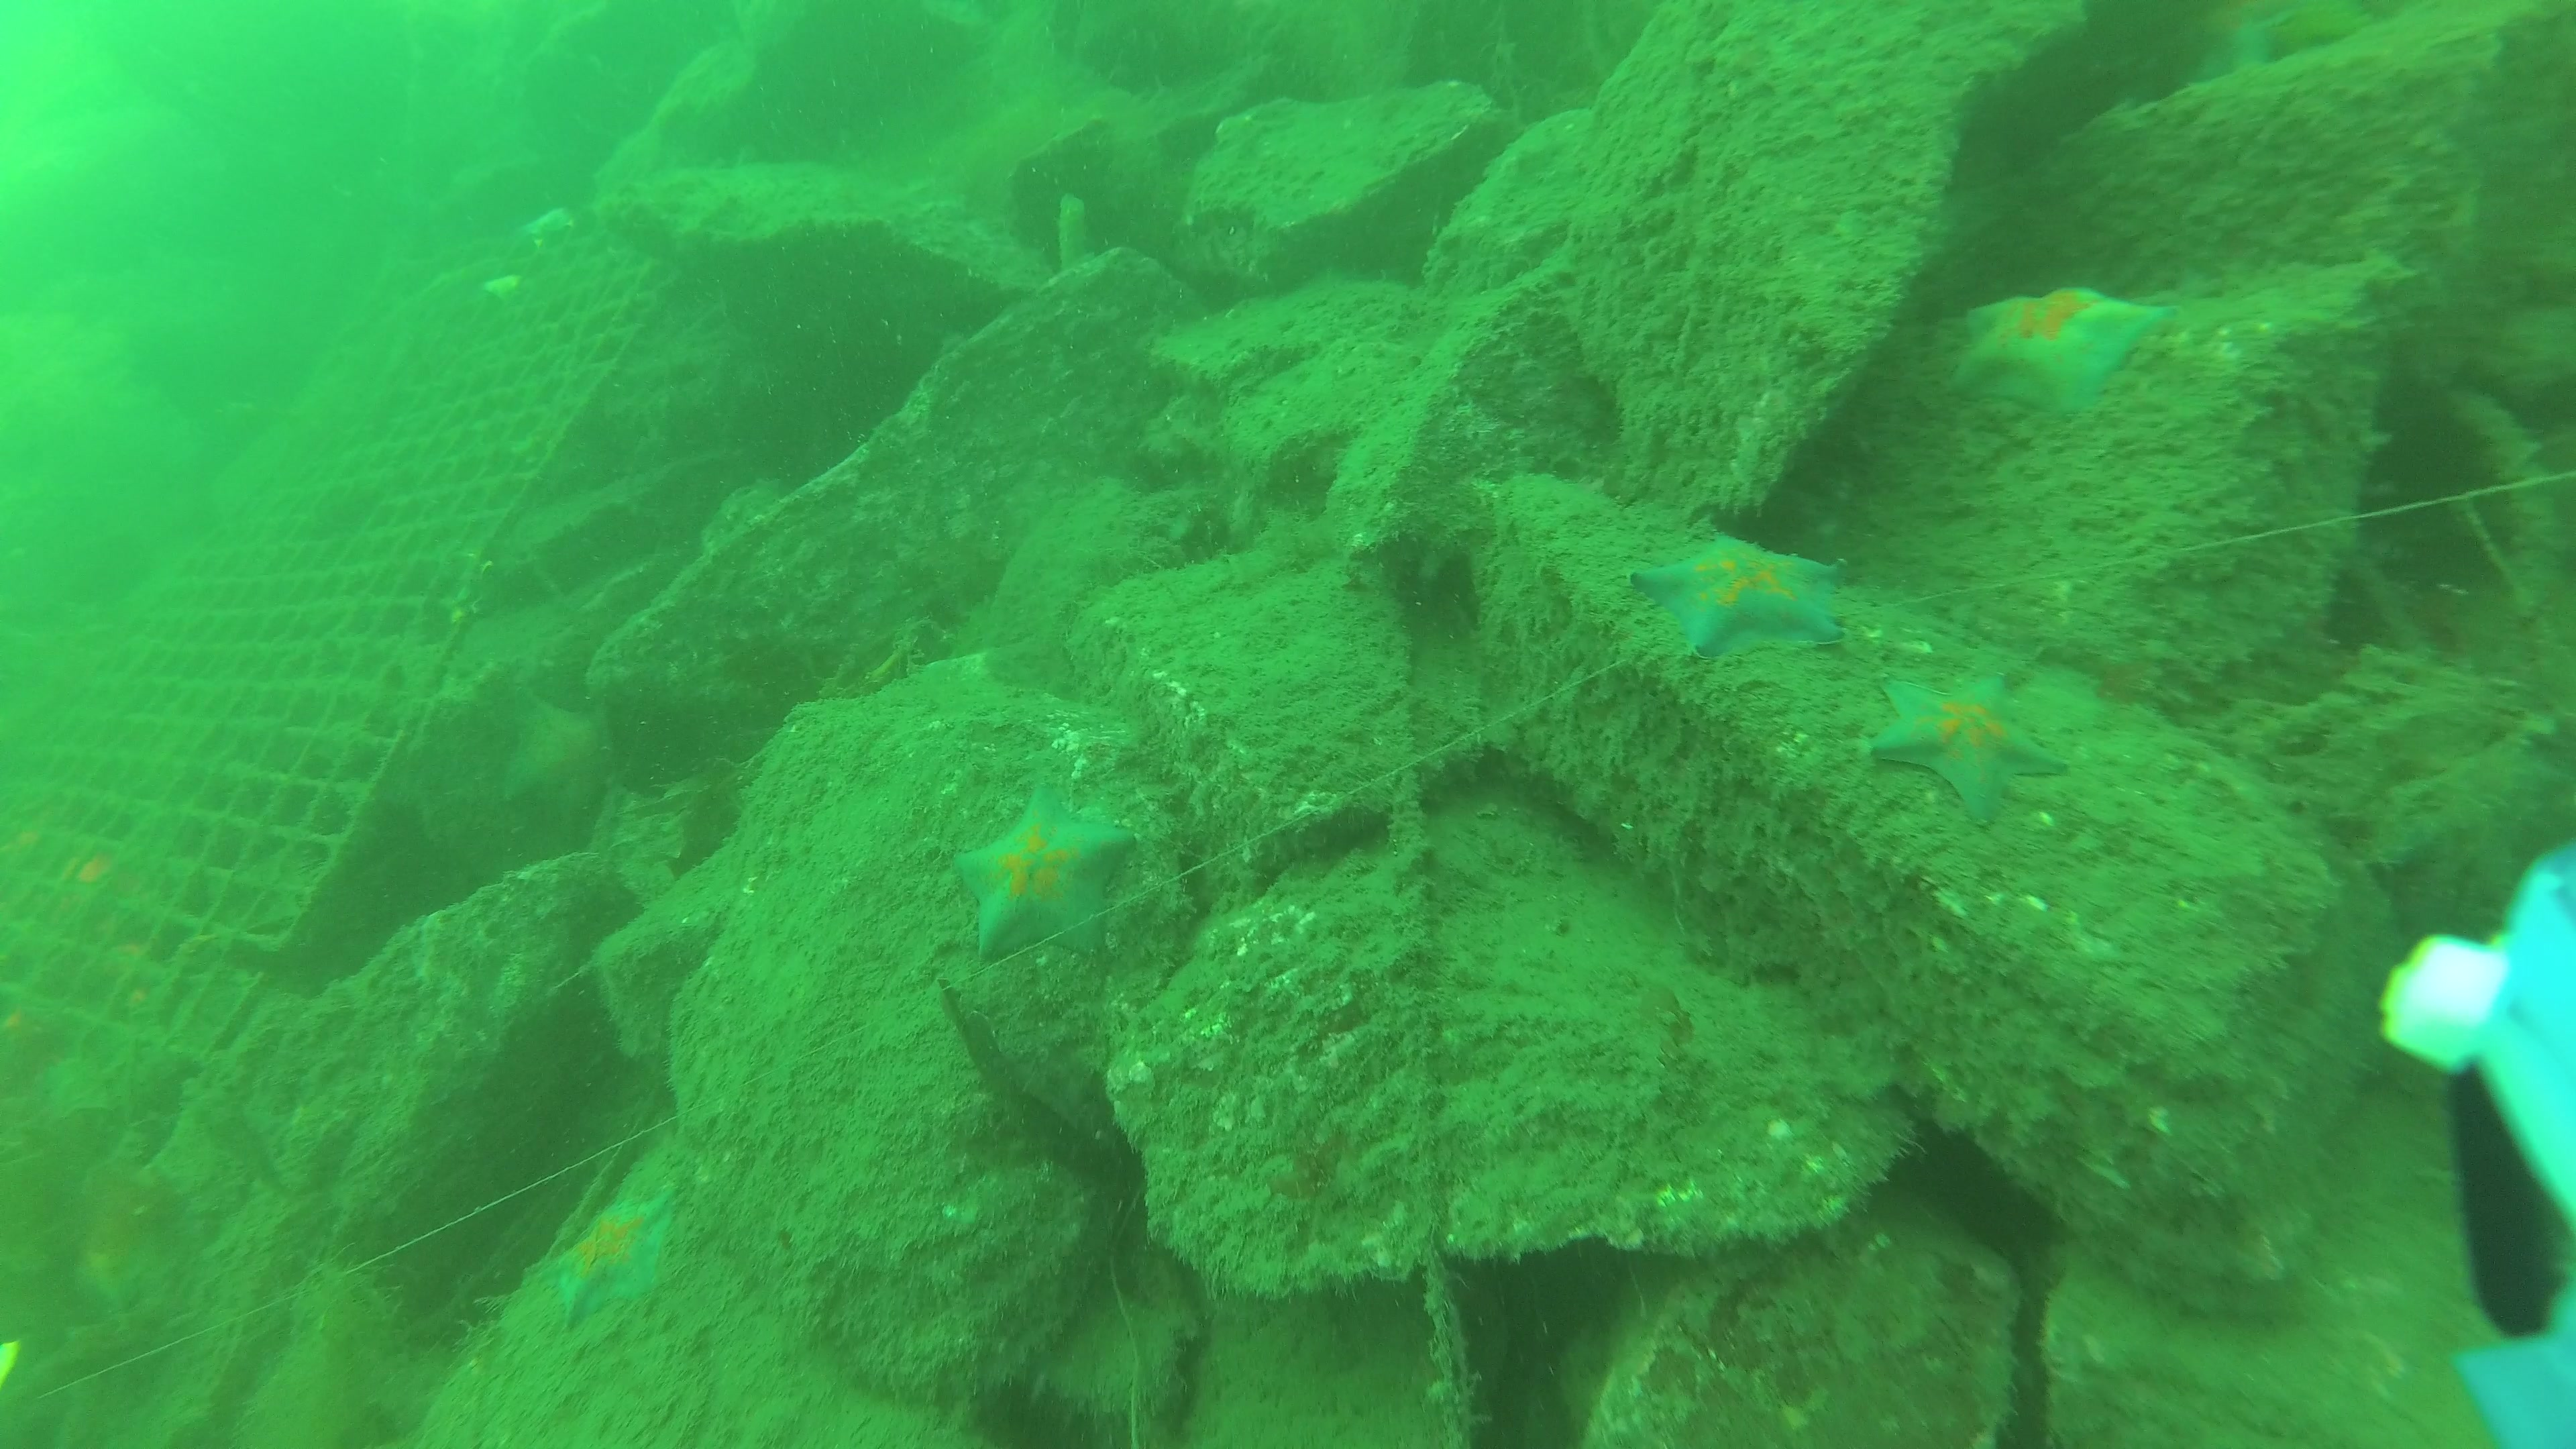starfish: (961, 791, 1136, 950), (1637, 534, 1849, 663), (1865, 676, 2063, 810), (1962, 288, 2160, 407), (510, 685, 621, 830), (550, 1212, 674, 1330)
